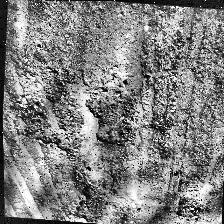pothole: (80, 78, 140, 148), (14, 97, 80, 149), (69, 180, 114, 224), (172, 188, 212, 220)
